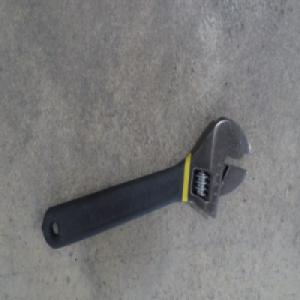AdjustableWrench: (41, 117, 249, 251)
